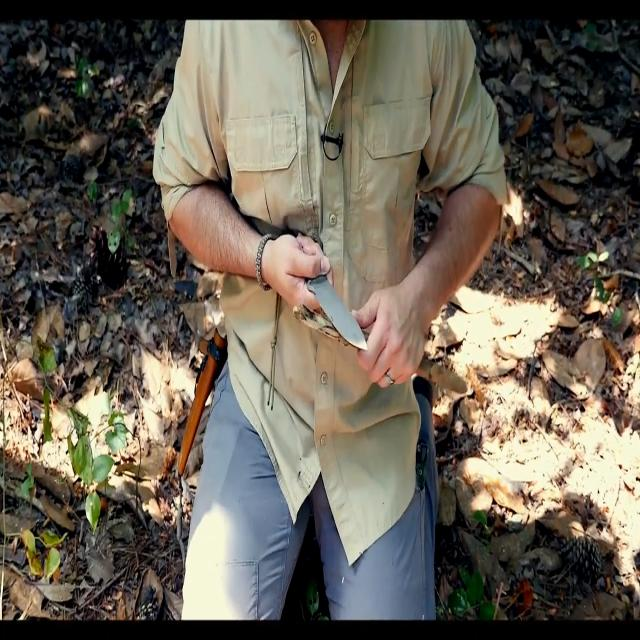knife: (311, 270, 371, 364)
